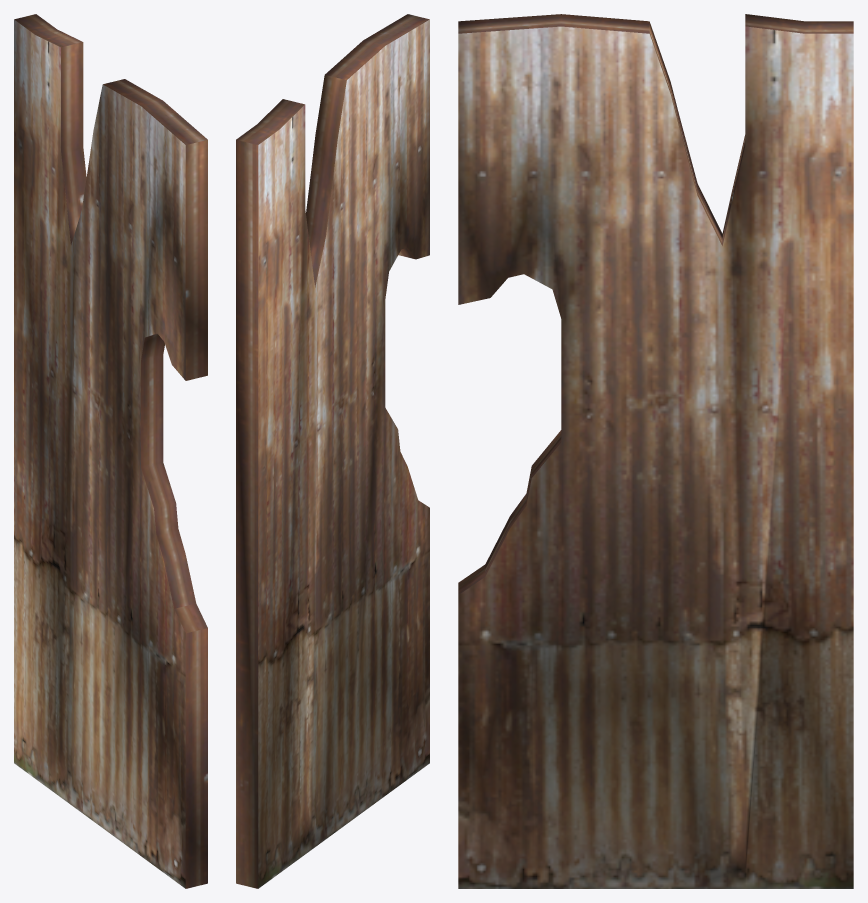
The model's file is door.fbx.
3 renders of one model, left to right at view 1: azimuth 30°, elevation 25°; view 2: azimuth 150°, elevation 25°; view 3: azimuth 270°, elevation 25°, orthographic. The views are drawn at different scales.
Visible parts, largest first — view 1: U3DMesh; view 2: U3DMesh; view 3: U3DMesh.
Boxes of the visible parts, left/top/right/bottom form: U3DMesh: left=14, top=14, right=207, bottom=888; U3DMesh: left=236, top=14, right=429, bottom=888; U3DMesh: left=458, top=14, right=853, bottom=888.
Size of the model in its own units: 2.29 by 73.92 by 30.68.
